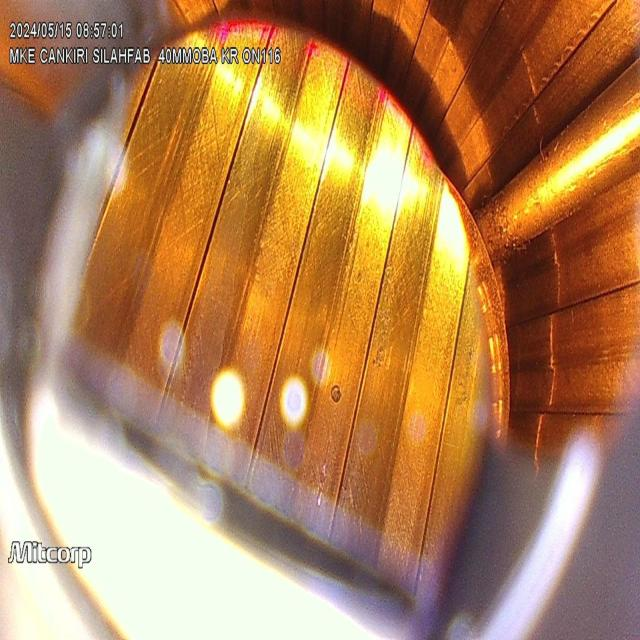hata_3.2: (326, 372, 352, 436), (467, 336, 485, 381), (373, 342, 390, 376), (352, 268, 366, 291)
hata_5.1: (476, 0, 617, 169)
